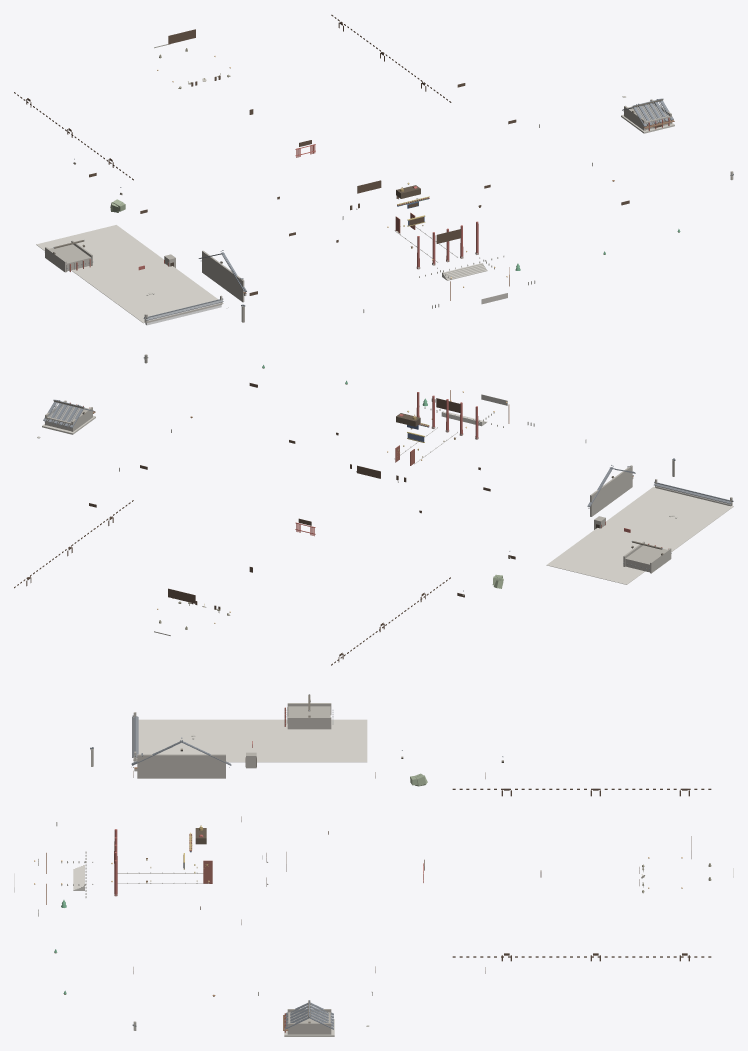
The model's file is export_yamen.glb.
The picture shows the model from 3 angles, top to bottom: view 1: azimuth 30°, elevation 25°; view 2: azimuth 150°, elevation 25°; view 3: azimuth 270°, elevation 25°; orthographic projection. The views are drawn at different scales.
Visible parts, largest first — view 1: cityfree; view 2: cityfree; view 3: cityfree.
Boxes of the visible parts, <box> form: cityfree: <box>14,14,733,325</box>; cityfree: <box>14,354,733,665</box>; cityfree: <box>14,694,733,1036</box>.
Size of the model in its own units: 394 by 36.1 by 372.
